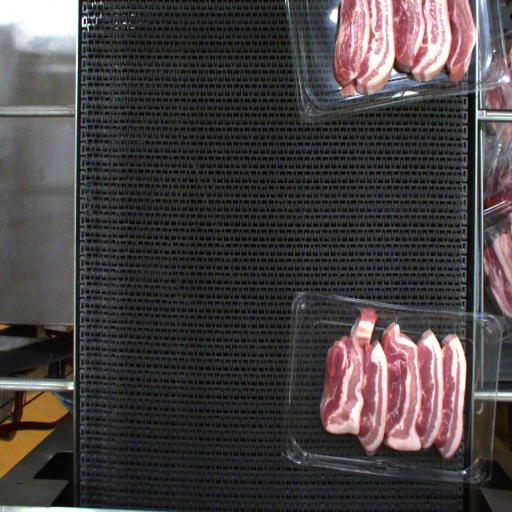twisted-meat: (328, 307, 374, 426)
